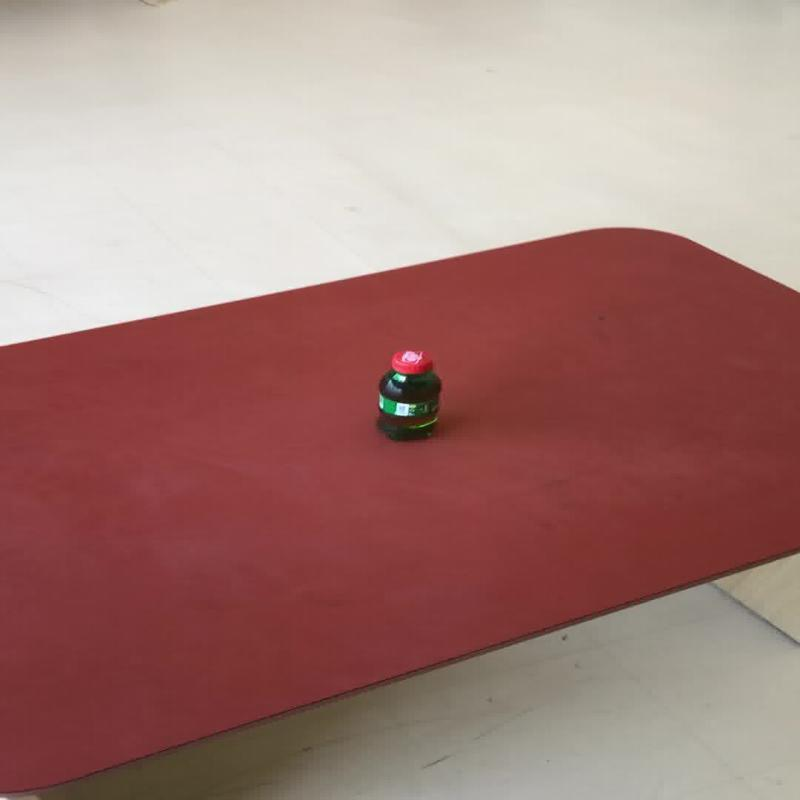guarana: (373, 348, 442, 441)
